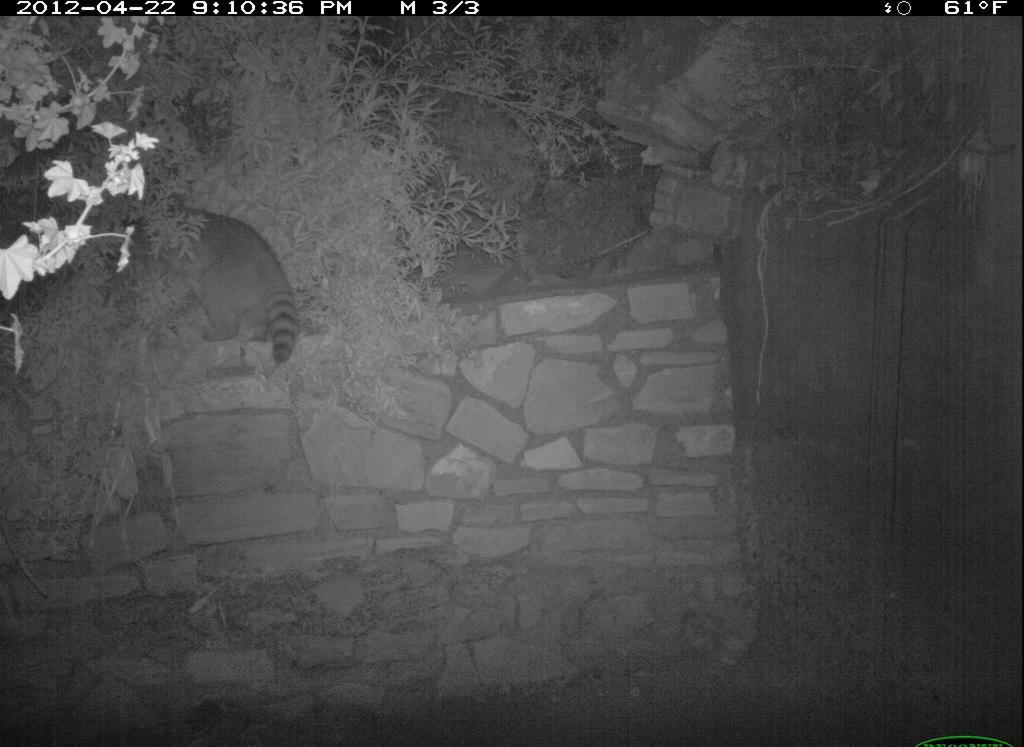raccoon: (134, 191, 308, 368)
